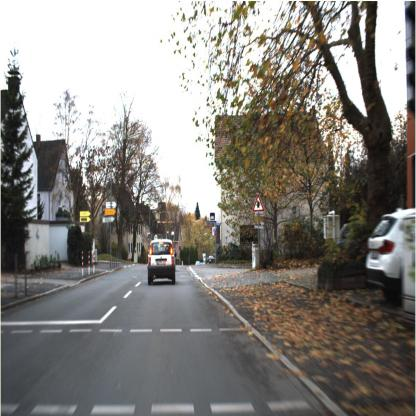danger: (250, 190, 268, 218)
